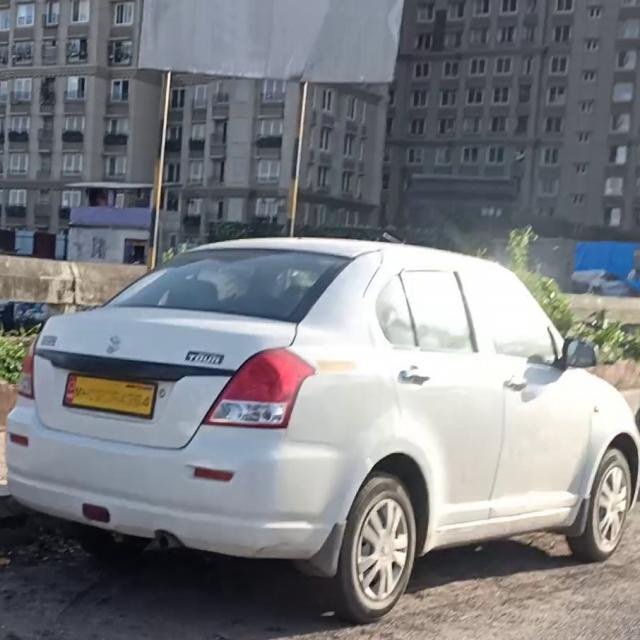Plate: (65, 373, 157, 420)
